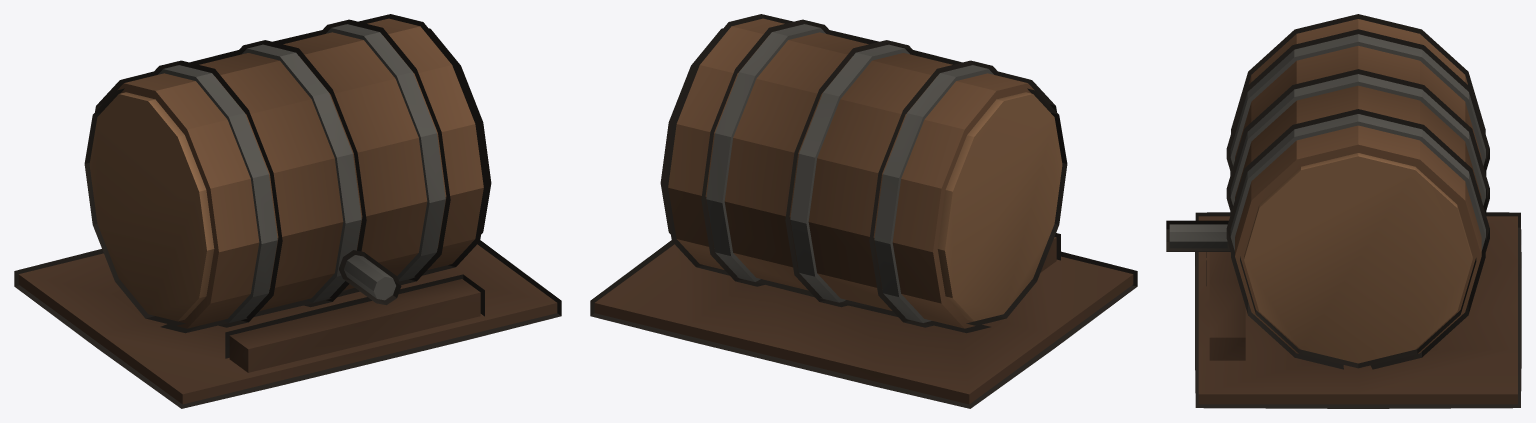
File: tonneau_couche.glb
3 views of the same model, side by side, from view 1: azimuth 30°, elevation 25°; view 2: azimuth 150°, elevation 25°; view 3: azimuth 270°, elevation 25° (orthographic). The views are drawn at different scales.
Parts seen in each view (by area): view 1: tonneau_couche, tonneau_couche_outline; view 2: tonneau_couche, tonneau_couche_outline; view 3: tonneau_couche, tonneau_couche_outline.
Part boxes in pixels (x1,y1,x2,y2): tonneau_couche: (18,18,557,404); tonneau_couche_outline: (14,14,561,408); tonneau_couche: (594,18,1133,404); tonneau_couche_outline: (590,14,1137,408); tonneau_couche: (1169,19,1517,404); tonneau_couche_outline: (1166,14,1521,408).
Bounding box in the file's own units: 1.18 × 0.7466 × 0.9787.
